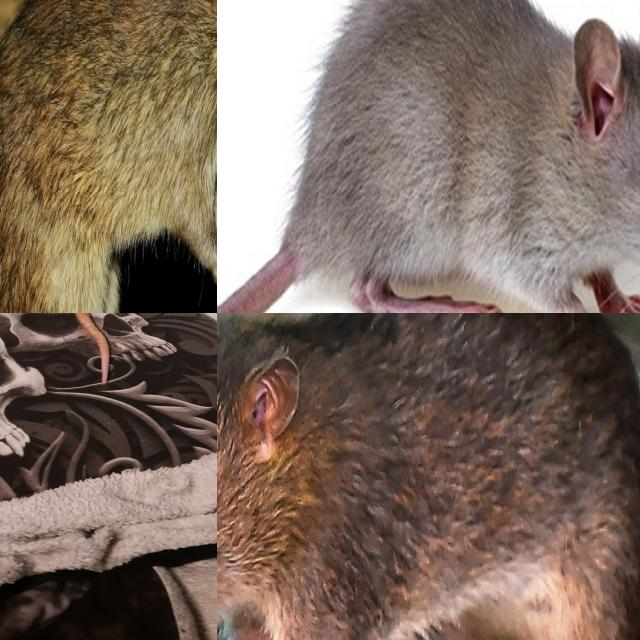rat: (217, 313, 640, 640), (304, 0, 640, 313), (0, 0, 217, 313)
